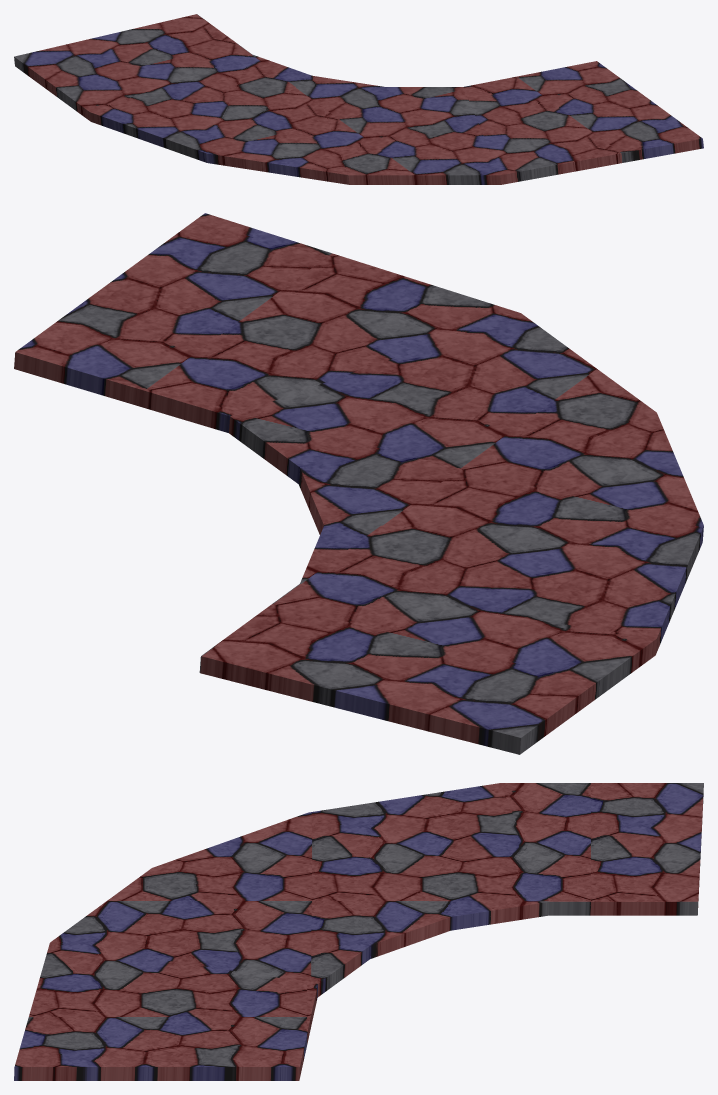
Rendered from Half curve Left.fbx.
3 views of the same model, one above another, from view 1: azimuth 30°, elevation 25°; view 2: azimuth 150°, elevation 25°; view 3: azimuth 270°, elevation 25° (orthographic). The views are drawn at different scales.
Visible parts, largest first — view 1: Half curve bottom Left; view 2: Half curve bottom Left; view 3: Half curve bottom Left.
Part boxes in pixels (x1=…): Half curve bottom Left: x1=14, y1=14, x2=703, y2=184; Half curve bottom Left: x1=14, y1=213, x2=703, y2=754; Half curve bottom Left: x1=14, y1=783, x2=703, y2=1080.
Bounding box in the file's own units: 921 × 19.9 × 944.
Materials: 1 (1 with a texture image).
